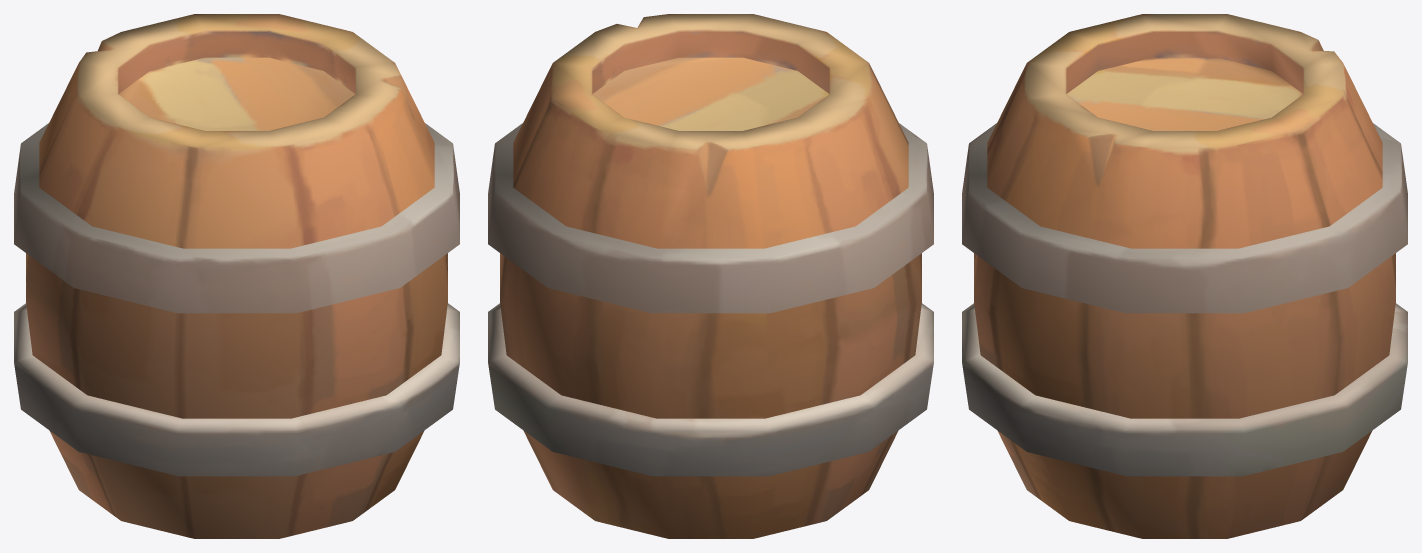
The picture shows the model from 3 angles, left to right: view 1: azimuth 30°, elevation 25°; view 2: azimuth 150°, elevation 25°; view 3: azimuth 270°, elevation 25°; orthographic projection.
Parts seen in each view (by area): view 1: SM_S20a; view 2: SM_S20a; view 3: SM_S20a.
Part boxes in pixels (x1,y1,x2,y2): SM_S20a: [14, 14, 459, 538]; SM_S20a: [488, 14, 933, 538]; SM_S20a: [962, 14, 1407, 538].
Size of the model in its own units: 138 by 133 by 138.
